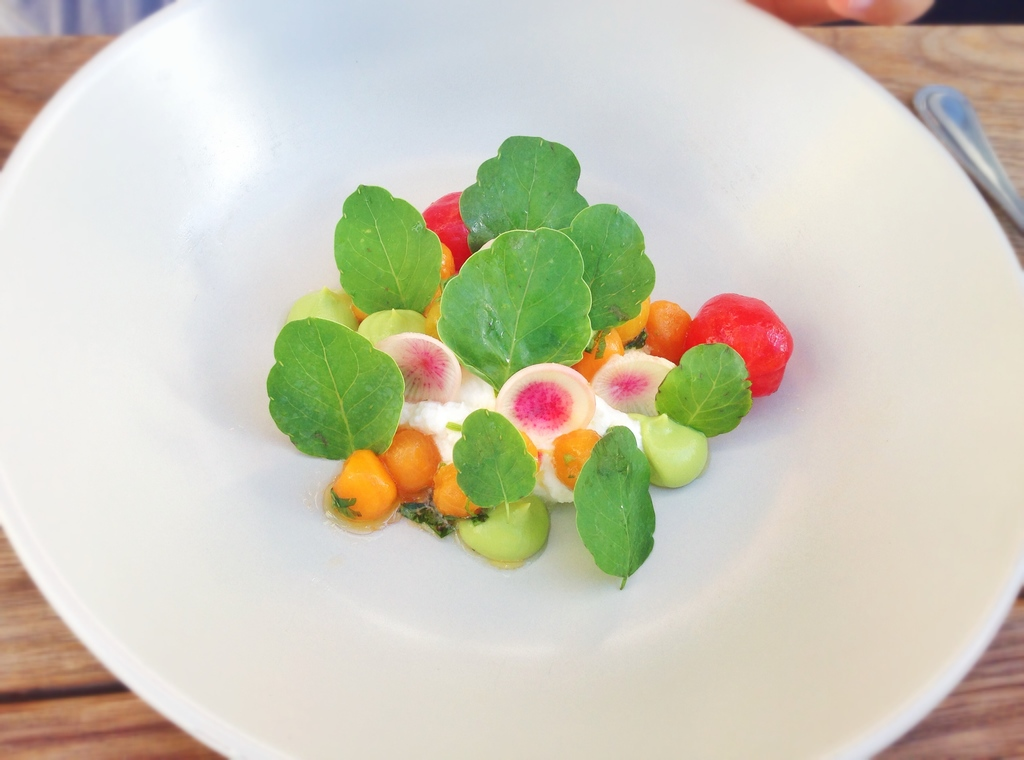plate: (0, 0, 989, 759)
